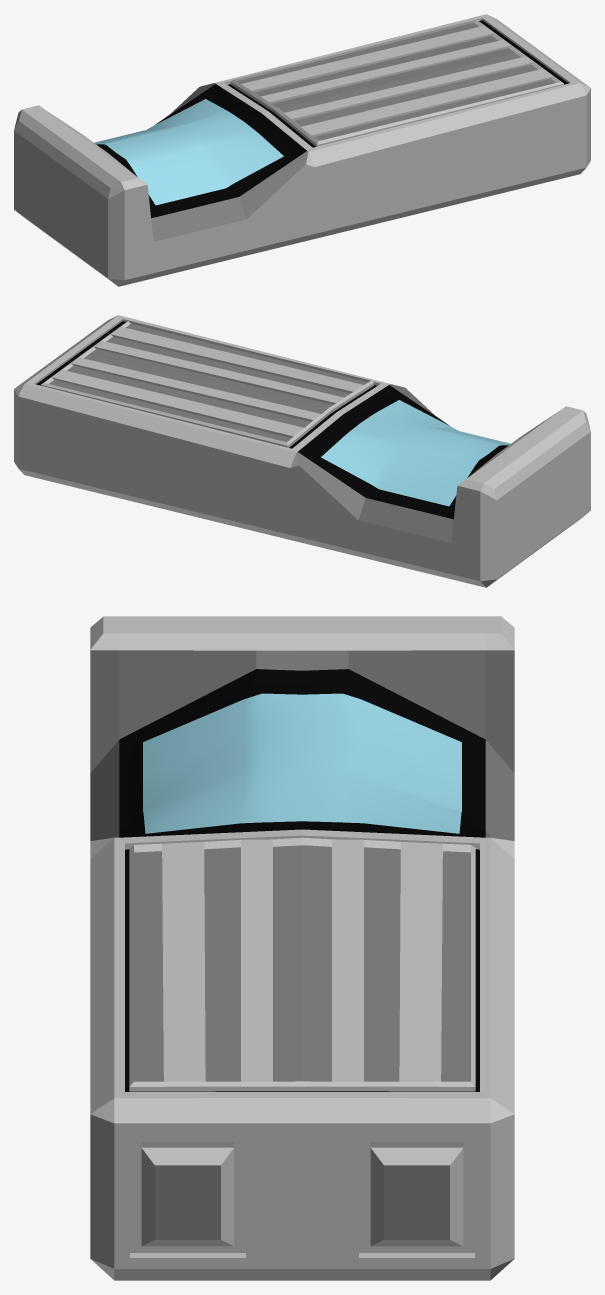
The model's file is codex.fbx.
3 views of the same model, one above another, from view 1: azimuth 30°, elevation 25°; view 2: azimuth 150°, elevation 25°; view 3: azimuth 270°, elevation 25° (orthographic). The views are drawn at different scales.
Parts seen in each view (by area): view 1: Cube; view 2: Cube; view 3: Cube.
Boxes of the visible parts, x1,y1,x2,y2 form: Cube: (14,14,590,286); Cube: (14,315,590,587); Cube: (90,616,514,1280).
Bounding box in the file's own units: 577 × 120 × 217.
1 material, 1 textured.
